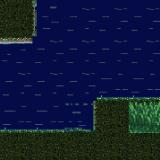Interaction: (0, 121, 85, 146), (85, 89, 160, 112), (85, 112, 104, 146)
Slow: (36, 0, 92, 127), (92, 0, 160, 96), (0, 44, 36, 130), (128, 100, 160, 134)
